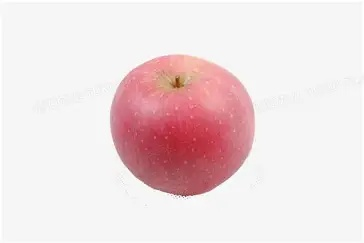ripe_apple: (109, 53, 256, 197)
